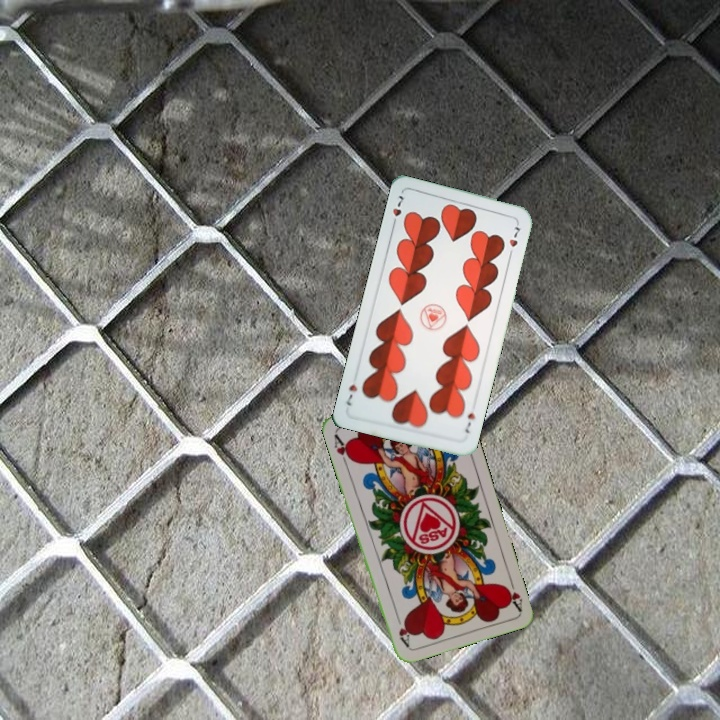H7: (388, 191, 407, 230), (461, 403, 478, 436)
HA: (500, 573, 525, 613), (330, 430, 355, 469)
